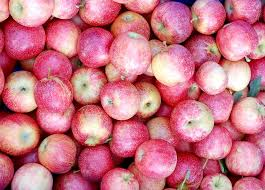apple: (149, 3, 195, 45), (109, 34, 152, 72), (173, 102, 213, 139), (217, 22, 257, 58), (36, 77, 75, 113), (153, 47, 192, 81), (135, 141, 174, 175), (71, 107, 111, 138), (41, 134, 75, 168), (103, 83, 139, 114)
